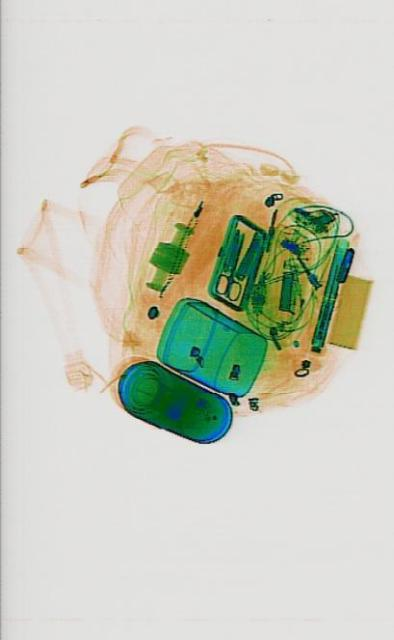Scissors: (212, 227, 252, 301)
